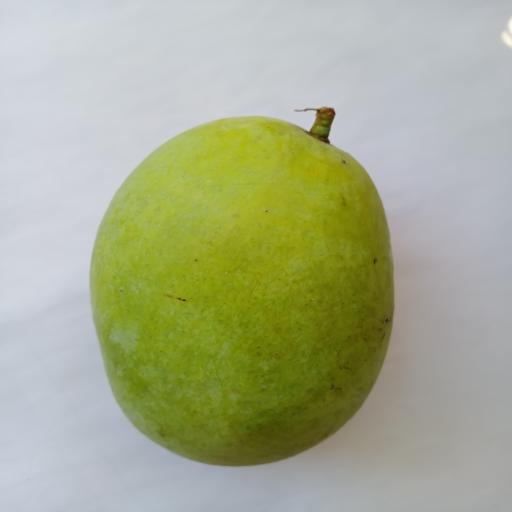mango-unripe: (83, 82, 412, 479)
